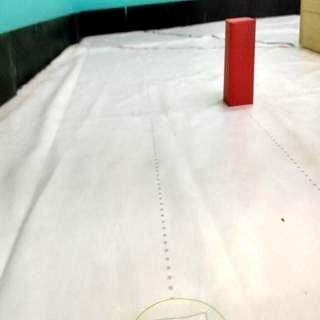redbox: (224, 18, 257, 108)
